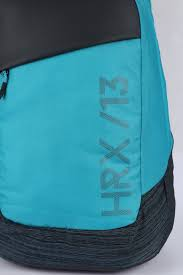backpack: (0, 0, 176, 272)
